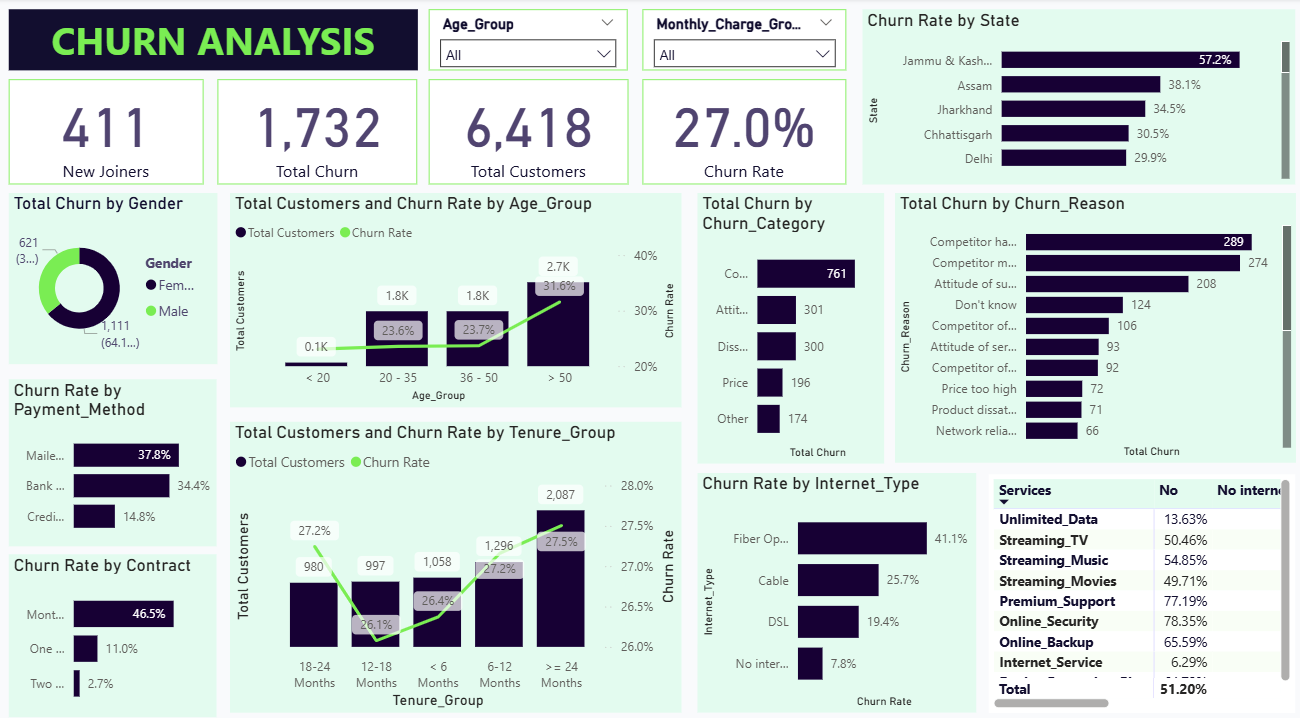

This screenshot's page, from the dashboard's own definition file:
{"tool":"powerbi","page":{"name":"Summary","canvas":[1280,720],"ordinal":0},"visuals":[{"type":"card","fields":{"Values":["Measure_tbl.New Joiners"]},"box":[8.6,79.8,191.4,103.1],"z":0},{"type":"card","fields":{"Values":["Measure_tbl.Total Churn"]},"box":[213.5,79.8,196.3,103.1],"z":1000},{"type":"card","fields":{"Values":["Measure_tbl.Total Customers"]},"box":[420.9,79.8,196.3,103.1],"z":2000},{"type":"card","fields":{"Values":["Measure_tbl.Churn Rate"]},"box":[630.7,79.8,200,103.1],"z":3000},{"type":"donutChart","fields":{"Category":["Cleaned_Customer_Data (1).Gender"],"Y":["Measure_tbl.Total Churn"]},"box":[8.6,191.4,204.9,168.1],"z":4000},{"type":"lineStackedColumnComboChart","fields":{"Y2":["Measure_tbl.Churn Rate"],"Category":["AGEGROUPREF.Age_Group"],"Y":["Measure_tbl.Total Customers"]},"box":[225.7,191.4,442.9,210],"z":5000},{"type":"clusteredBarChart","fields":{"Y":["Measure_tbl.Churn Rate"],"Category":["Cleaned_Customer_Data (1).Payment_Method"]},"box":[8.6,374.3,204.3,164.3],"z":6000},{"type":"clusteredBarChart","fields":{"Y":["Measure_tbl.Churn Rate"],"Category":["Cleaned_Customer_Data (1).Contract"]},"box":[8.6,545.7,204.3,160],"z":7000},{"type":"lineStackedColumnComboChart","fields":{"Category":["TENUREGRPREF.Tenure_Group"],"Y2":["Measure_tbl.Churn Rate"],"Y":["Measure_tbl.Total Customers"]},"box":[225.7,415.7,442.9,285.7],"z":8000},{"type":"clusteredBarChart","fields":{"Y":["Measure_tbl.Churn Rate"],"Category":["Cleaned_Customer_Data (1).State"]},"box":[846.6,11,424.5,171.8],"z":9000},{"type":"clusteredBarChart","fields":{"Category":["Cleaned_Customer_Data (1).Internet_Type"],"Y":["Measure_tbl.Churn Rate"]},"box":[684.7,466.3,273.6,235.6],"z":10000},{"type":"clusteredBarChart","fields":{"Category":["Cleaned_Customer_Data (1).Churn_Category"],"Y":["Measure_tbl.Total Churn"]},"box":[684.3,191.4,182.9,265.7],"z":11000},{"type":"clusteredBarChart","fields":{"Y":["Measure_tbl.Total Churn"],"Category":["Cleaned_Customer_Data (1).Churn_Reason"]},"box":[878.5,191.4,393.9,265],"z":12000},{"type":"pivotTable","fields":{"Rows":["Prod_Services.Services"],"Values":["Sum(Prod_Services.Churned_Status)"],"Columns":["Prod_Services.Value"]},"box":[970.6,467.5,300.6,234.4],"z":13000},{"type":"slicer","fields":{"Values":["Prod_Services.Monthly_Charge_Group"]},"box":[630.7,11,200,60.1],"z":14000},{"type":"slicer","fields":{"Values":["AGEGROUPREF.Age_Group"]},"box":[420.9,11,195.1,60.1],"z":15000},{"type":"textbox","box":[8.6,11,401.2,60.1],"z":16000}]}

Visuals, with their boxes in screenshot pixels (x1, y1, x2, y2), scaled from the page's 1280x720 canvas onto the 1300x718 screenshot:
card - Measure_tbl.New Joiners: crop(9, 80, 203, 182)
card - Measure_tbl.Total Churn: crop(217, 80, 416, 182)
card - Measure_tbl.Total Customers: crop(427, 80, 627, 182)
card - Measure_tbl.Churn Rate: crop(641, 80, 844, 182)
donutChart - Cleaned_Customer_Data (1).Gender x Measure_tbl.Total Churn: crop(9, 191, 217, 359)
lineStackedColumnComboChart - Measure_tbl.Churn Rate x AGEGROUPREF.Age_Group: crop(229, 191, 679, 400)
clusteredBarChart - Measure_tbl.Churn Rate x Cleaned_Customer_Data (1).Payment_Method: crop(9, 373, 216, 537)
clusteredBarChart - Measure_tbl.Churn Rate x Cleaned_Customer_Data (1).Contract: crop(9, 544, 216, 704)
lineStackedColumnComboChart - TENUREGRPREF.Tenure_Group x Measure_tbl.Churn Rate: crop(229, 415, 679, 699)
clusteredBarChart - Measure_tbl.Churn Rate x Cleaned_Customer_Data (1).State: crop(860, 11, 1291, 182)
clusteredBarChart - Cleaned_Customer_Data (1).Internet_Type x Measure_tbl.Churn Rate: crop(695, 465, 973, 700)
clusteredBarChart - Cleaned_Customer_Data (1).Churn_Category x Measure_tbl.Total Churn: crop(695, 191, 881, 456)
clusteredBarChart - Measure_tbl.Total Churn x Cleaned_Customer_Data (1).Churn_Reason: crop(892, 191, 1292, 455)
pivotTable - Prod_Services.Services x Sum(Prod_Services.Churned_Status): crop(986, 466, 1291, 700)
slicer - Prod_Services.Monthly_Charge_Group: crop(641, 11, 844, 71)
slicer - AGEGROUPREF.Age_Group: crop(427, 11, 626, 71)
textbox: crop(9, 11, 416, 71)
